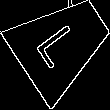L_NE: (35, 17, 90, 71)
